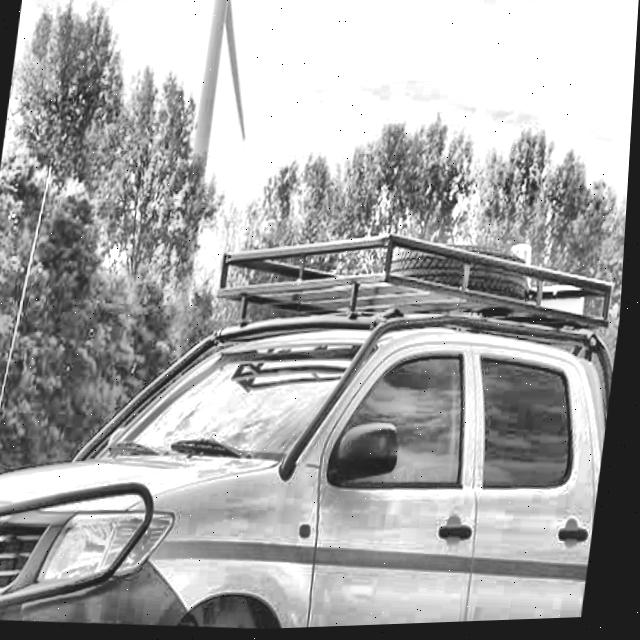light_vehicle: (0, 174, 631, 640)
